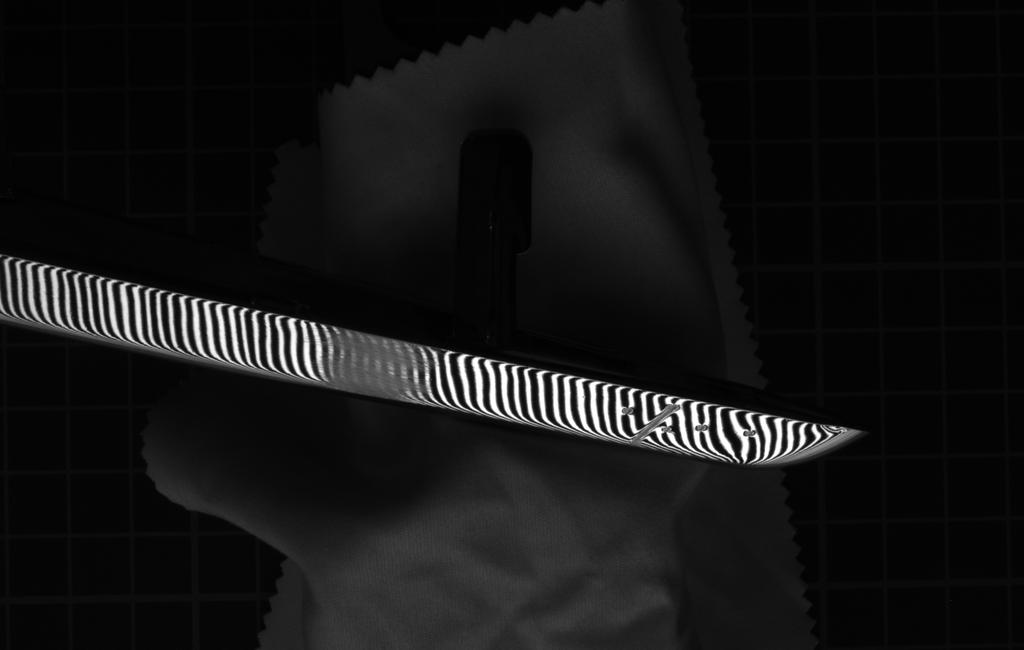Pierced: (690, 420, 718, 436), (738, 424, 764, 441), (618, 403, 638, 419), (658, 422, 679, 436)
Pitting: (316, 314, 450, 407)
Scratch: (630, 404, 682, 443)
